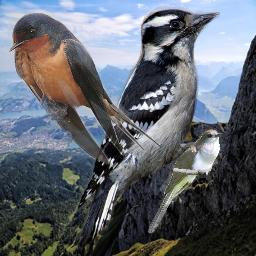Cuckoo: (147, 129, 223, 233)
Swallow: (8, 11, 160, 165)
Woodpecker: (76, 5, 220, 248)
